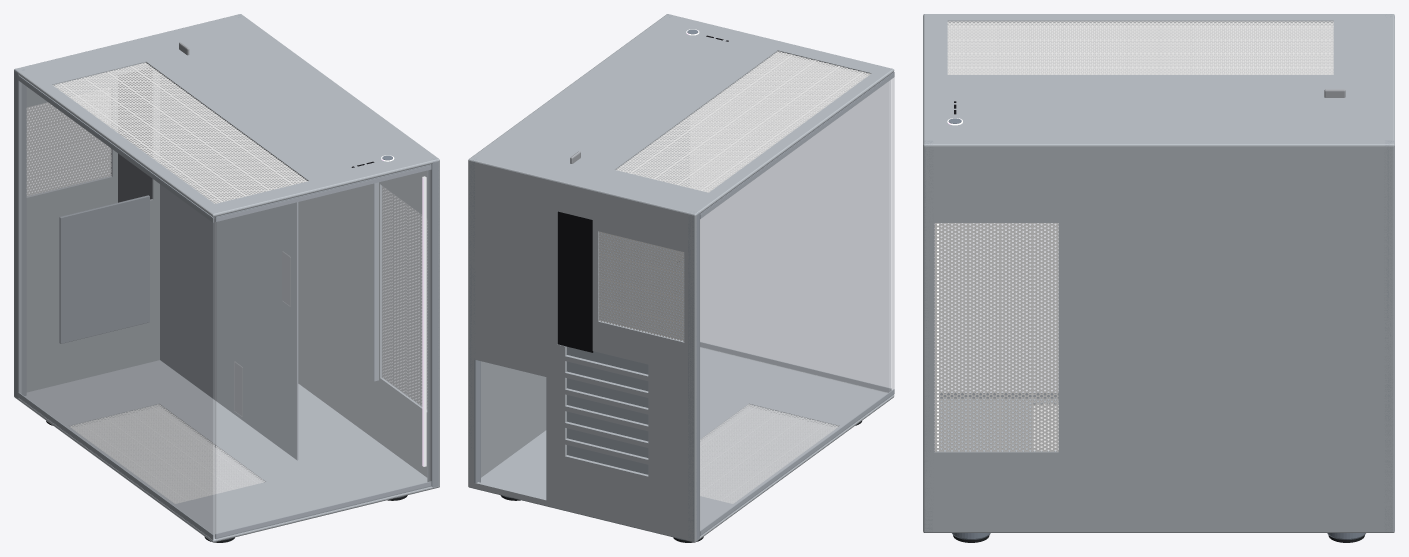
The model's file is case-bitlab-cube.glb.
3 views of the same model, side by side, from view 1: azimuth 30°, elevation 25°; view 2: azimuth 150°, elevation 25°; view 3: azimuth 270°, elevation 25° (orthographic). The views are drawn at different scales.
Parts seen in each view (by area): view 1: case_CaseSolid, glass_front, glass_side, case_Perforated, case_RGB; view 2: case_CaseSolid, glass_side, glass_front, case_Perforated; view 3: case_CaseSolid, case_Perforated, glass_side.
Part boxes in pixels (x1,y1,x2,y2): case_CaseSolid: [14, 14, 439, 542]; glass_front: [215, 166, 430, 537]; glass_side: [19, 77, 215, 538]; case_Perforated: [26, 62, 427, 503]; case_RGB: [381, 155, 426, 466]; case_CaseSolid: [468, 14, 894, 542]; glass_side: [700, 73, 894, 534]; glass_front: [700, 80, 890, 392]; case_Perforated: [598, 51, 870, 503]; case_CaseSolid: [923, 14, 1394, 542]; case_Perforated: [934, 21, 1333, 451]; glass_side: [940, 57, 1255, 398].
Size of the model in its own units: 0.29 by 0.426 by 0.44.
Materials: 4 (1 with a texture image).
